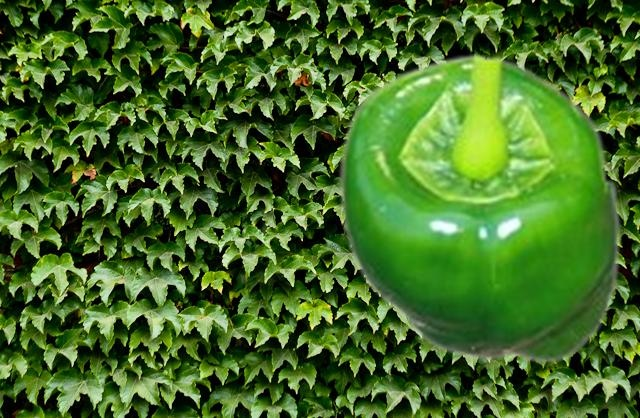bell_pepper: (336, 52, 621, 363)
